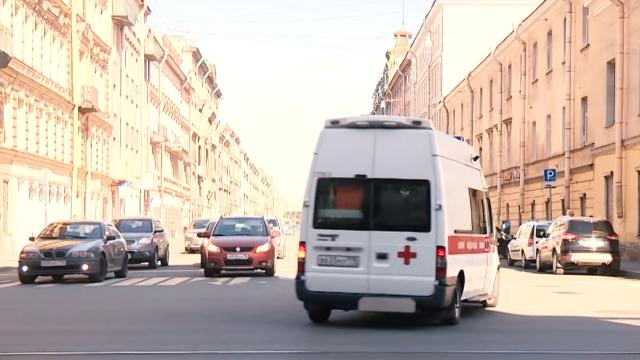ambulance: (296, 115, 502, 327)
non emergency car: (19, 220, 129, 286), (537, 219, 621, 278), (203, 214, 277, 278), (113, 219, 170, 269), (506, 217, 550, 270), (185, 219, 212, 253)
